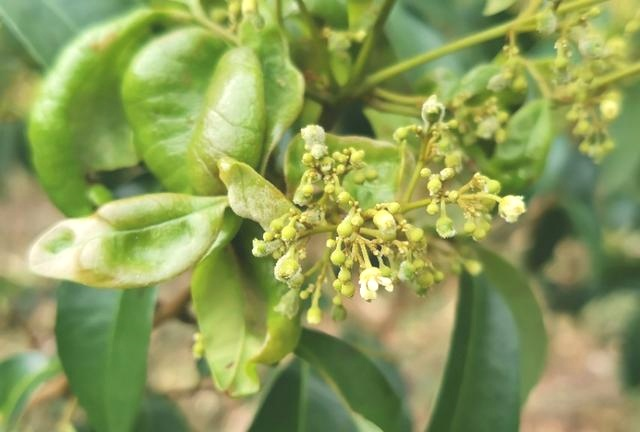Stink_Bug: (272, 123, 492, 288)
